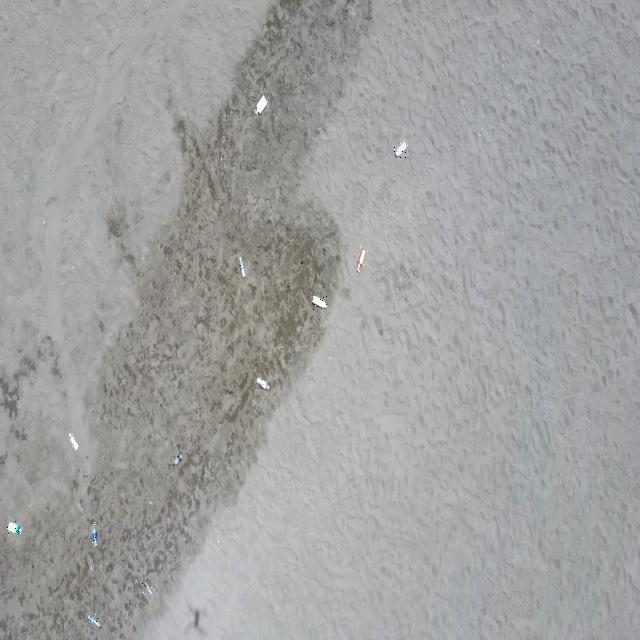plastic-bottle: (253, 94, 269, 116), (356, 248, 368, 273), (312, 294, 329, 311), (7, 520, 23, 537), (394, 140, 408, 158), (256, 376, 270, 392), (87, 614, 101, 629), (68, 432, 79, 451), (91, 522, 99, 548), (238, 256, 247, 279), (142, 577, 152, 597), (173, 453, 183, 467)
